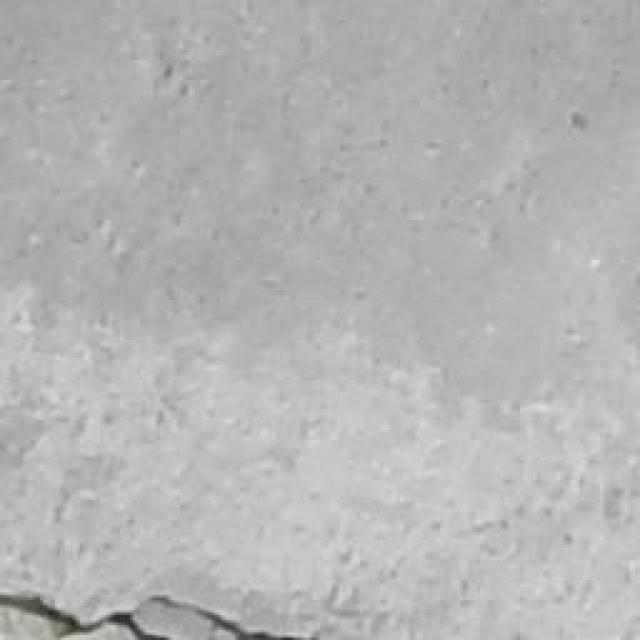concrete-crack: (0, 589, 271, 640)
